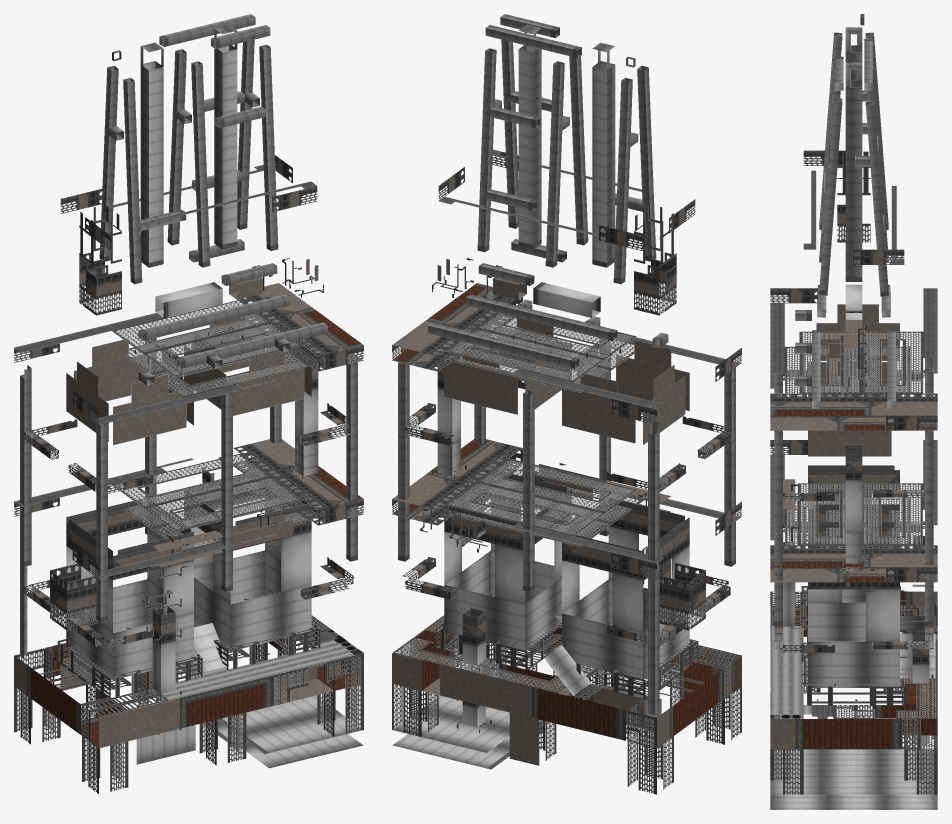
The model's file is cokerunit.obj.
3 views of the same model, side by side, from view 1: azimuth 30°, elevation 25°; view 2: azimuth 150°, elevation 25°; view 3: azimuth 270°, elevation 25° (orthographic).
Visible parts, largest first — view 1: cokerunit_normal; view 2: cokerunit_normal; view 3: cokerunit_normal.
Boxes of the visible parts, x1=… form: cokerunit_normal: x1=14, y1=14, x2=363, y2=794; cokerunit_normal: x1=392, y1=14, x2=741, y2=794; cokerunit_normal: x1=770, y1=14, x2=937, y2=809.
Size of the model in its own units: 9 by 23 by 5.
